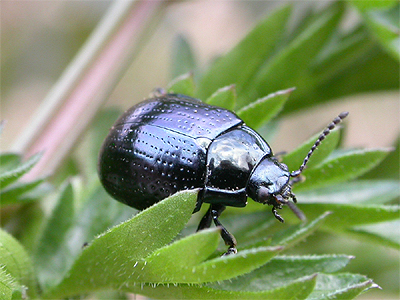Chrysolina_oricalcia: (96, 88, 349, 258)
